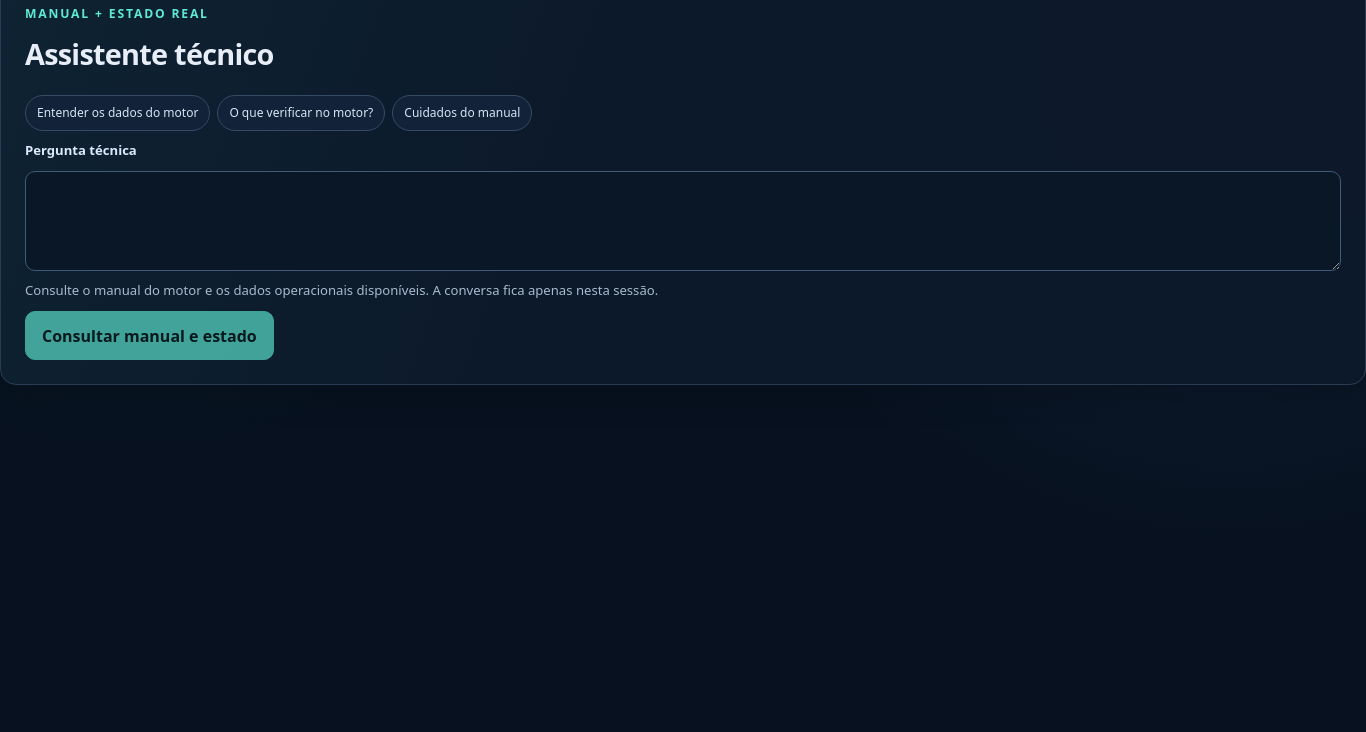
TechnicalAssistantPanel explicit safety states › renders operational_unavailable as a first-class state
This screenshot has width=1366, height=732.
Type "Explique o estado" into the text box labelled "Pergunta técnica". click: {"x": 683, "y": 221}
box: [25, 171, 1341, 271]
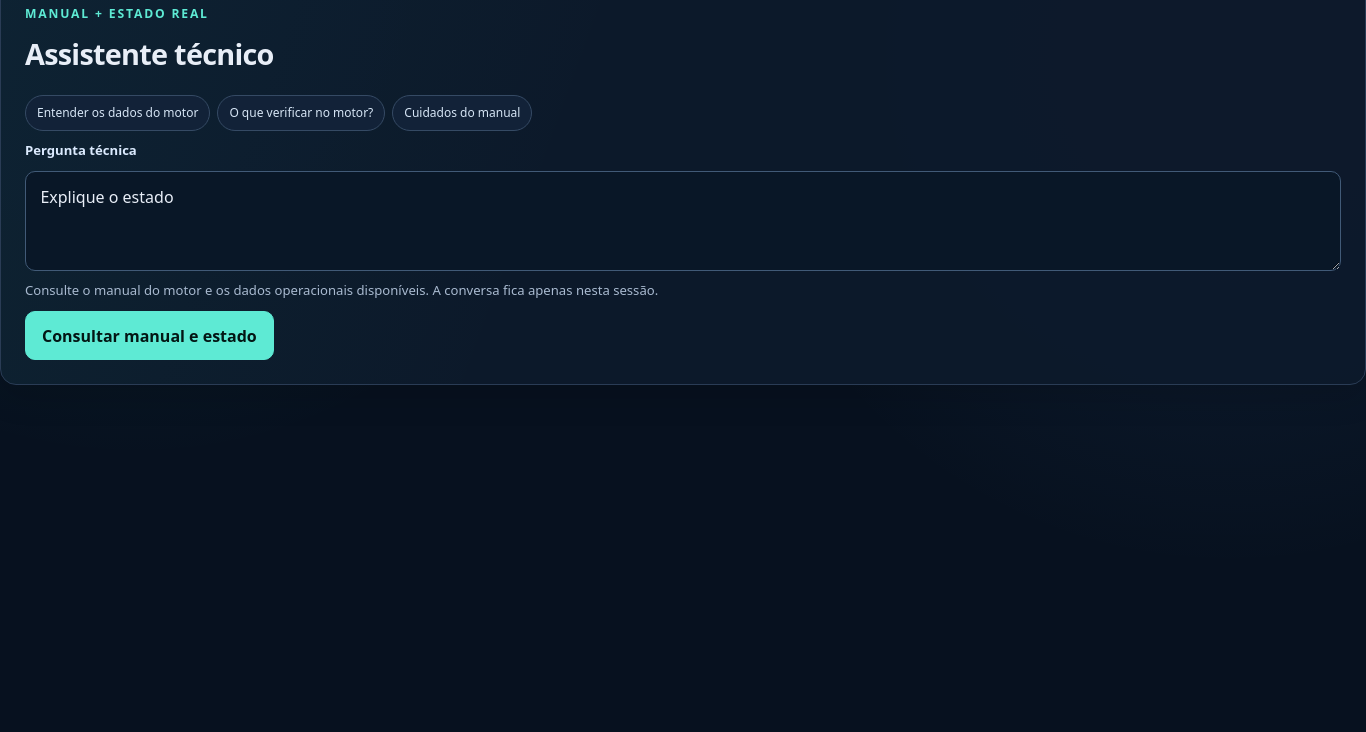
Submit the form named "Consultar o assistente técnico", box [25, 141, 1341, 360]
(page scrolled)
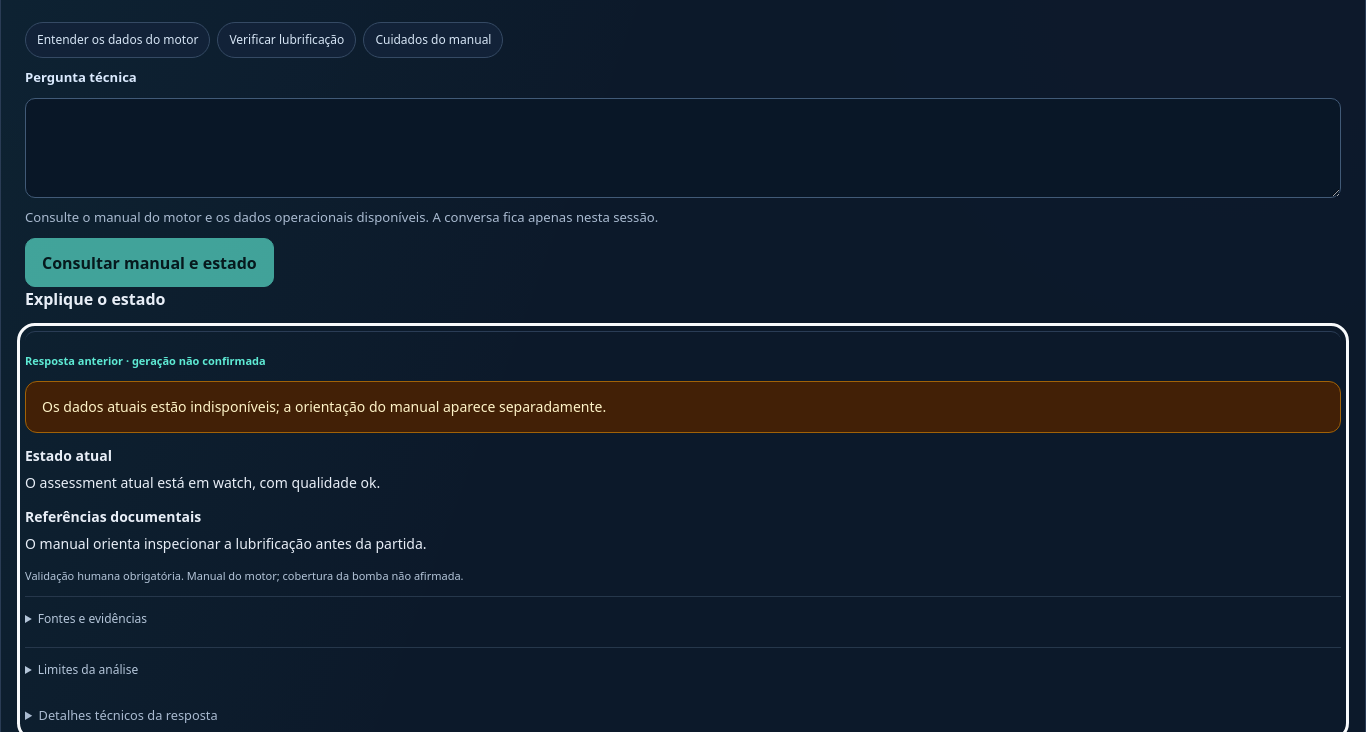
Expected: the text "dados atuais estão indisponíveis" is shown, [42, 397, 606, 416]
Expected: the heading "Referências documentais" is shown, [25, 507, 201, 526]
Expected: the heading "Estado atual" is shown, [25, 446, 112, 465]
